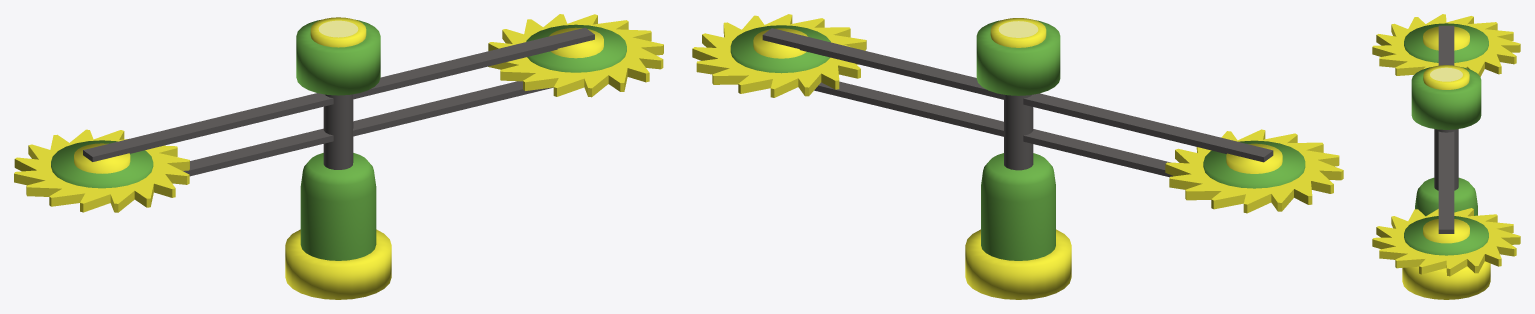
File: Obstacle 17 V2.fbx
3 renders of one model, left to right at view 1: azimuth 30°, elevation 25°; view 2: azimuth 150°, elevation 25°; view 3: azimuth 270°, elevation 25°, orthographic. The views are drawn at different scales.
Parts seen in each view (by area): view 1: O17 Part 3, O17 Part 4, O17 Part 2, O17 Part 1; view 2: O17 Part 3, O17 Part 4, O17 Part 2, O17 Part 1; view 3: O17 Part 3, O17 Part 1, O17 Part 2, O17 Part 4.
Part boxes in pixels (<box>): O17 Part 3: <box>285,17,391,299</box>; O17 Part 4: <box>83,27,594,176</box>; O17 Part 2: <box>14,129,189,212</box>; O17 Part 1: <box>488,14,663,97</box>; O17 Part 3: <box>965,18,1071,299</box>; O17 Part 4: <box>762,28,1273,177</box>; O17 Part 2: <box>1165,129,1343,213</box>; O17 Part 1: <box>692,14,866,97</box>; O17 Part 3: <box>1402,65,1490,299</box>; O17 Part 1: <box>1372,208,1520,276</box>; O17 Part 2: <box>1372,14,1520,76</box>; O17 Part 4: <box>1434,25,1458,233</box>.
Size of the model in its own units: 308 by 116 by 75.75.
Materials: 1 (1 with a texture image).
